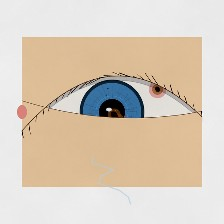foreign_body_visible: (142, 77, 173, 101)
